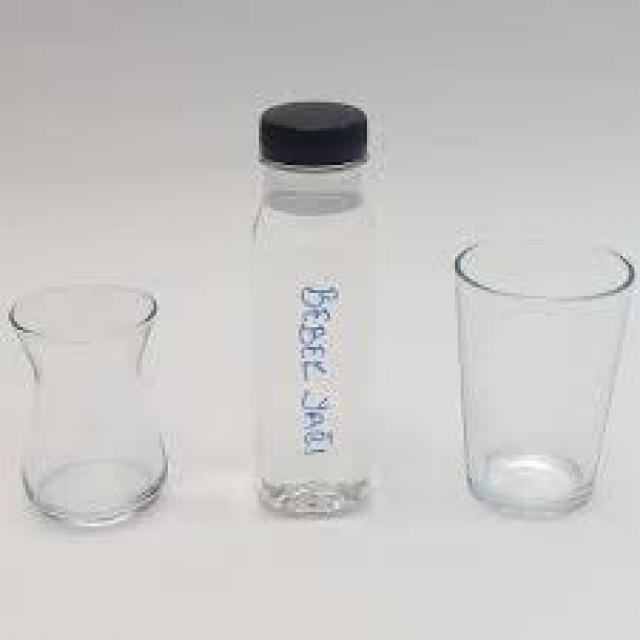non-organic waste: (246, 96, 385, 516), (452, 234, 634, 510), (4, 278, 172, 530)
